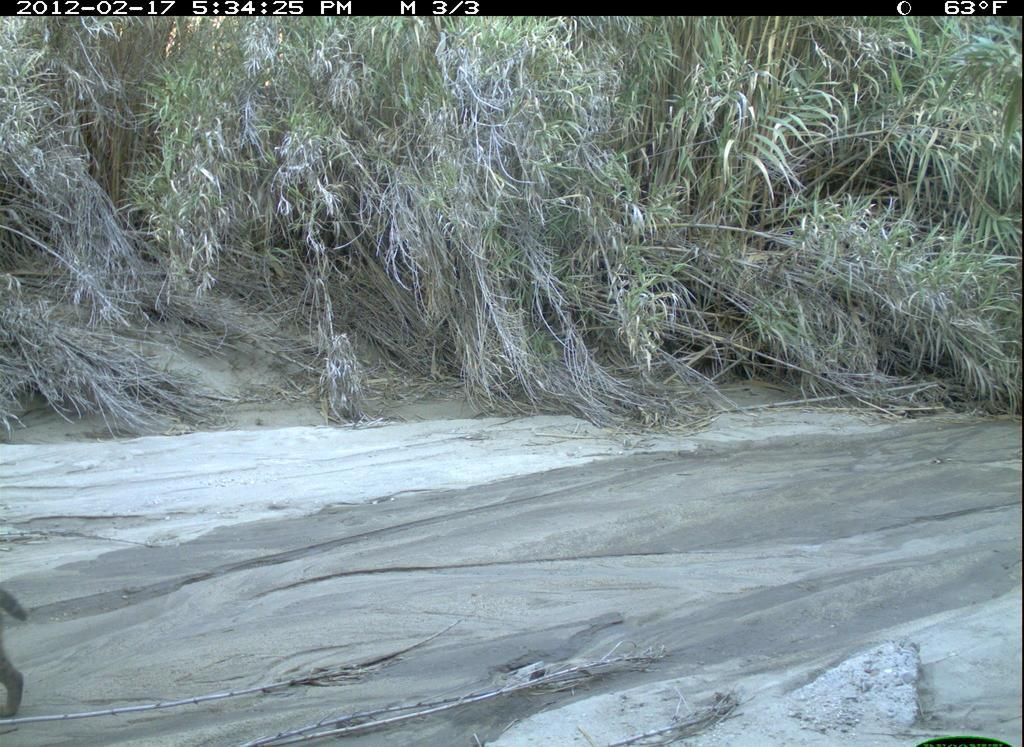bobcat: (1, 587, 41, 719)
